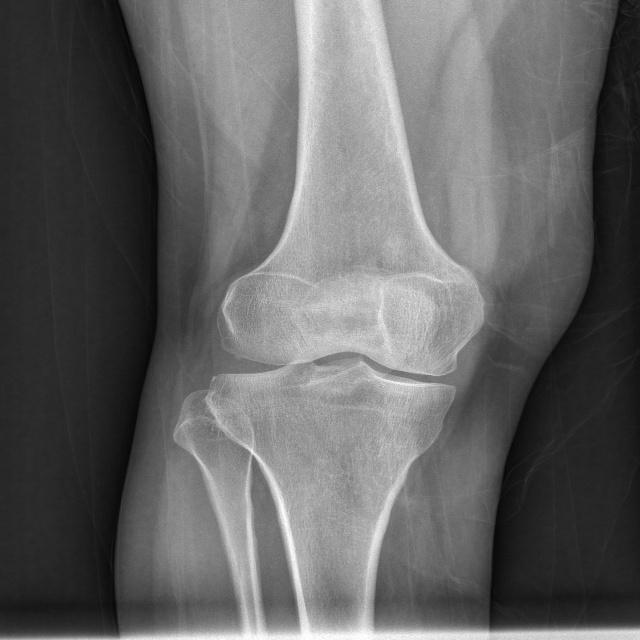Knee: (202, 274, 487, 437)
